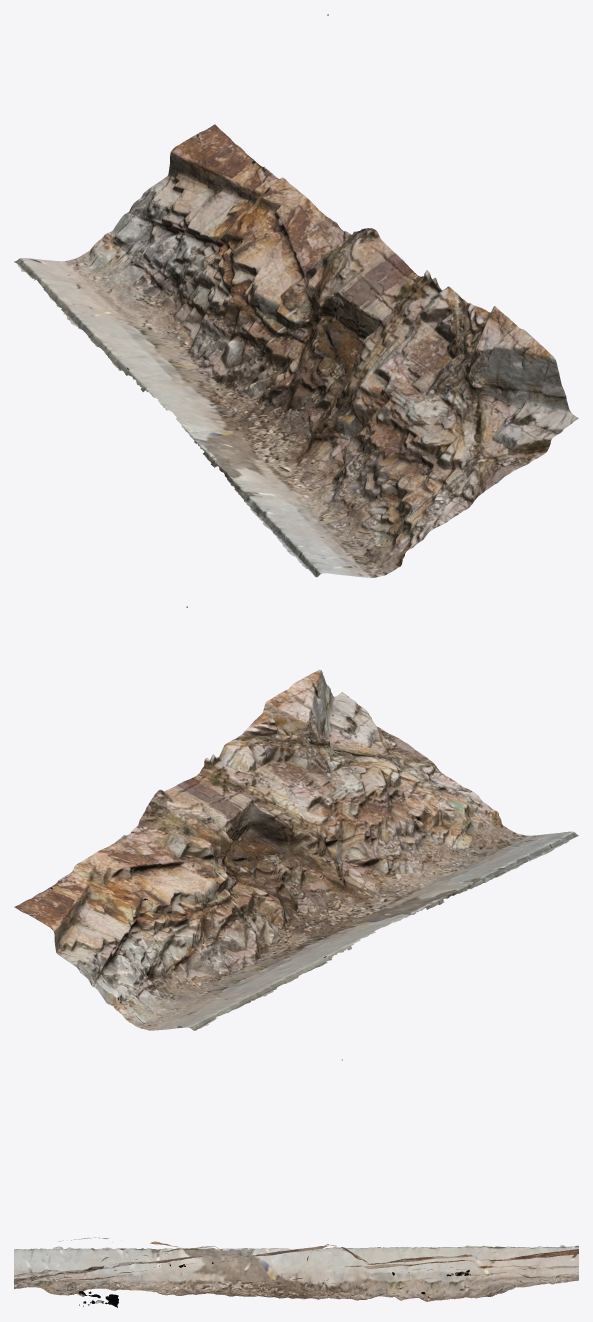
The picture shows the model from 3 angles, top to bottom: view 1: azimuth 30°, elevation 25°; view 2: azimuth 150°, elevation 25°; view 3: azimuth 270°, elevation 25°; orthographic projection. The views are drawn at different scales.
Bounding box in the file's own units: 4.22 × 5.65 × 10.11.
Materials: 2 (2 with a texture image).
